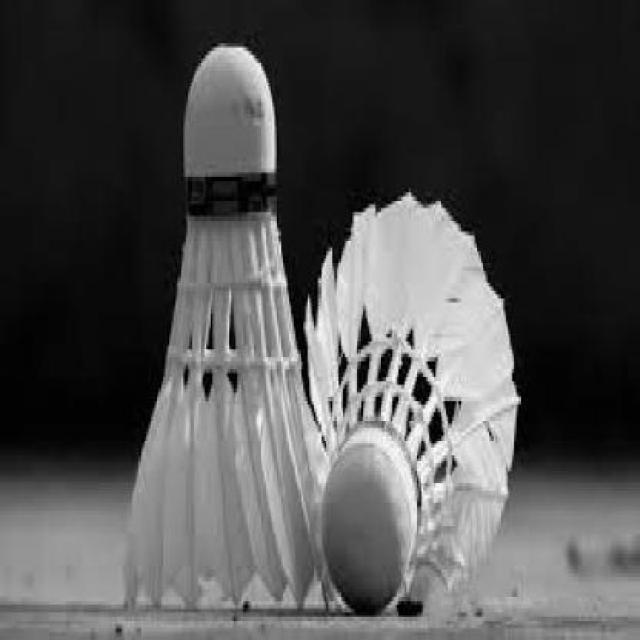Shuttlecock: (120, 43, 329, 609), (306, 184, 522, 616)
